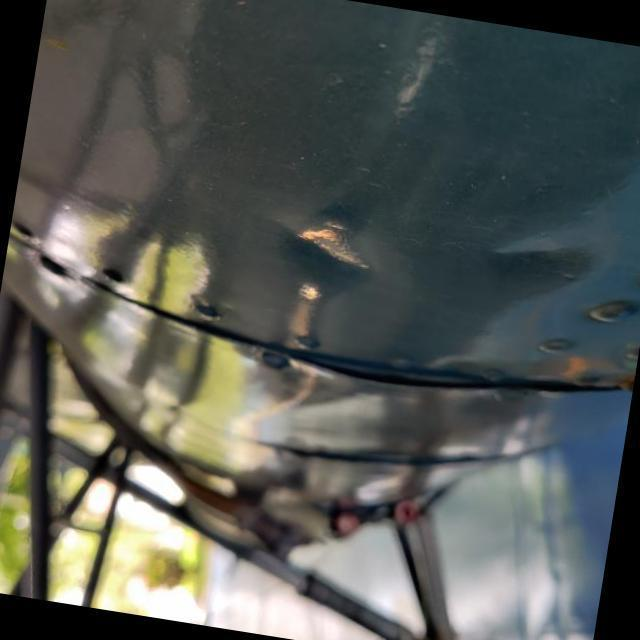Dent: (261, 181, 395, 325), (468, 205, 608, 337)
